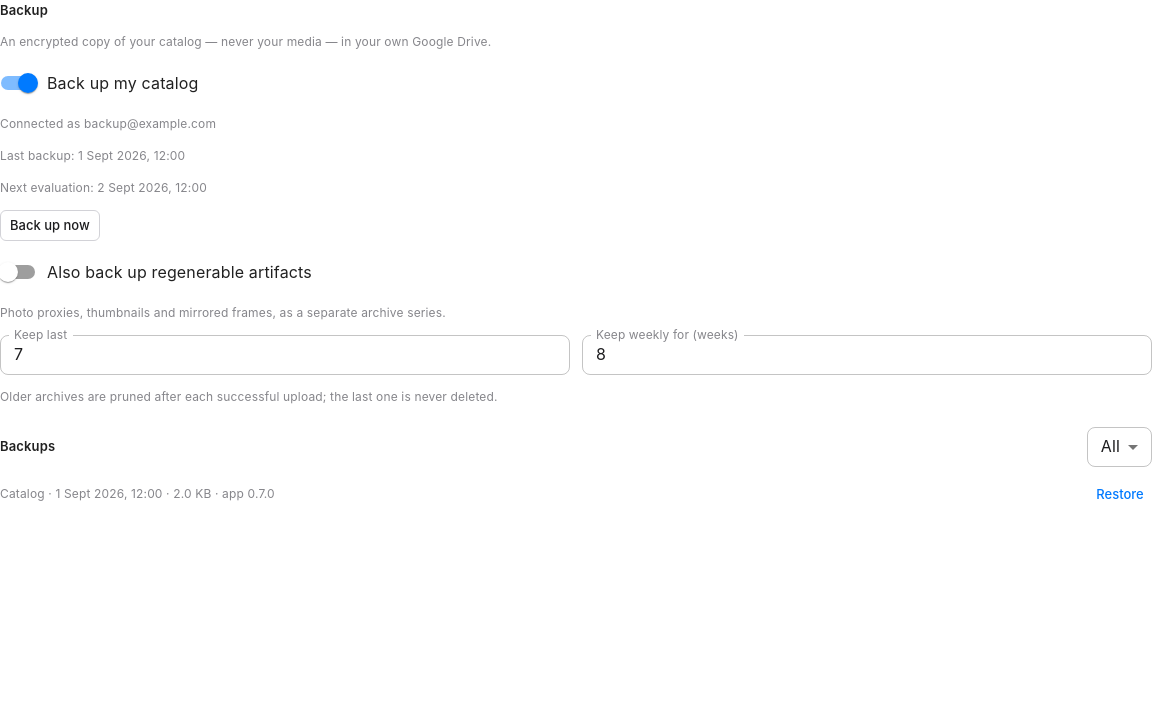
Test: Settings > Backup › does not say nothing changed when restore failed after rollback protection started
Click the button with test id "backup-restore-old" at (1120, 494), box 1088,479 -> 1151,509
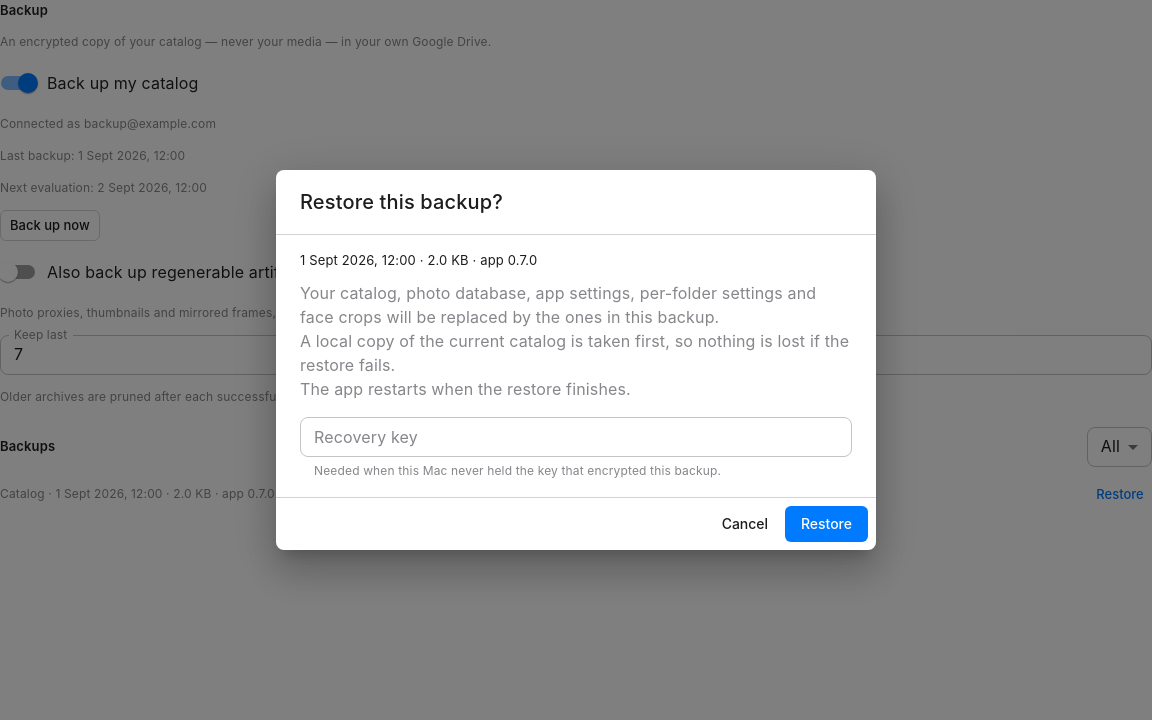
Expected: the element with test id "backup-restore-dialog" is shown
Click the button with test id "backup-restore-confirm" at (826, 524), box 785,506 -> 868,542
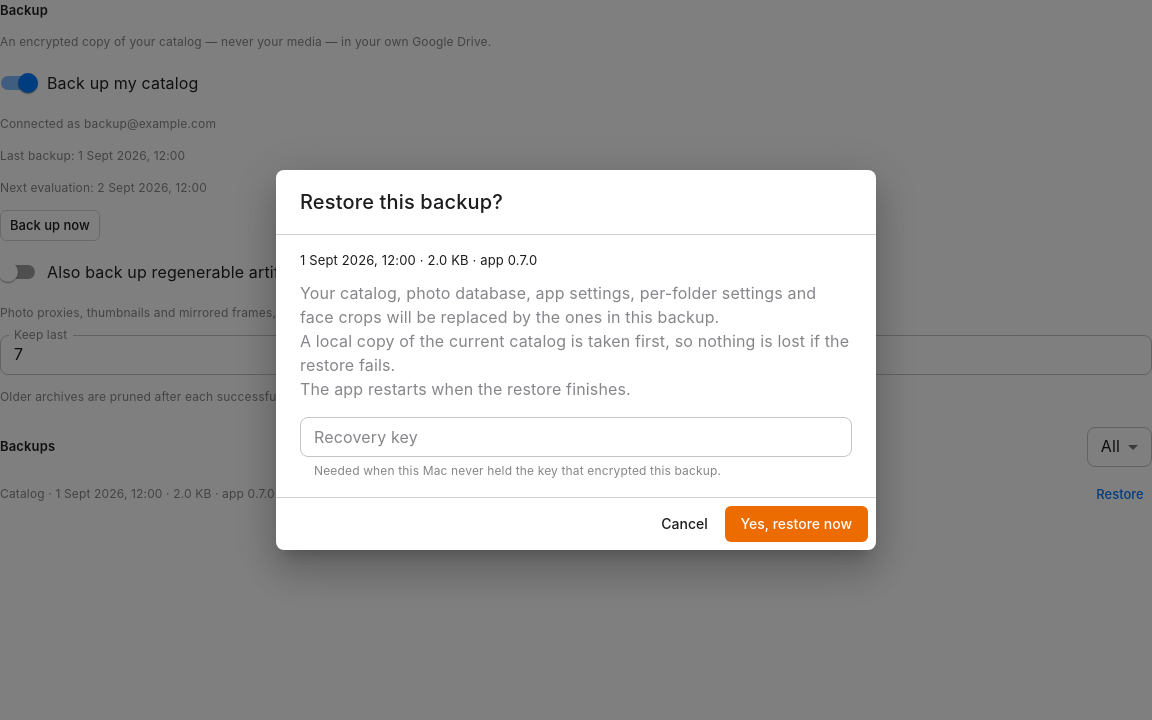
Click the button with test id "backup-restore-confirm-final" at (796, 524), box 724,506 -> 868,542
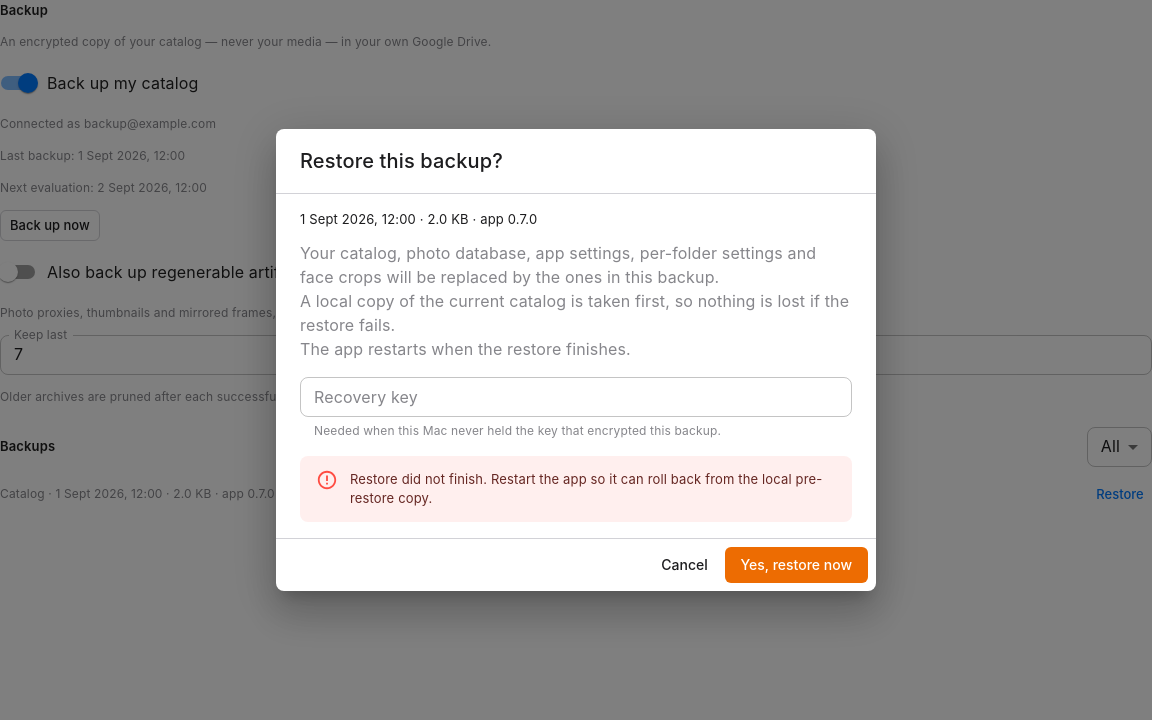
Expected: the message with test id "backup-restore-error" shows "Restore did not finish. Restart the app so it can roll back from the local pre-restore copy.", 350,471 -> 822,506
